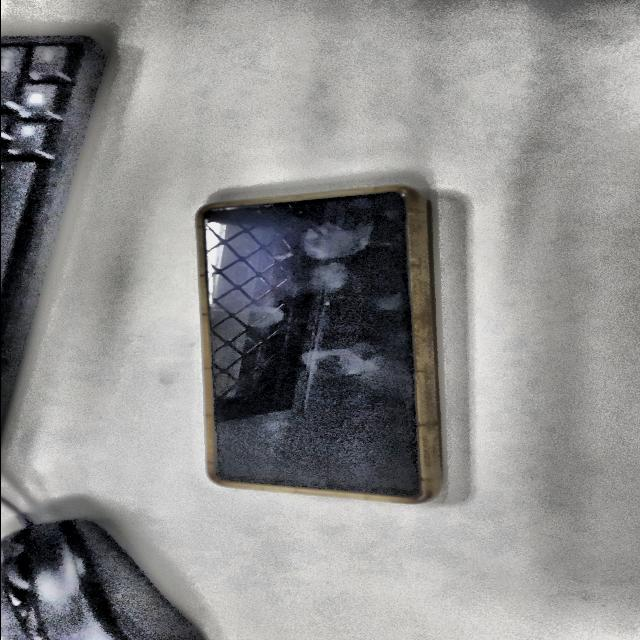Keyboard: (0, 33, 107, 427)
MOUSE: (0, 518, 203, 640)
PHONE: (197, 186, 440, 503)
